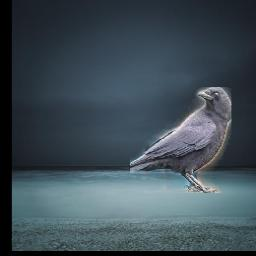Crow: (131, 87, 232, 193)
